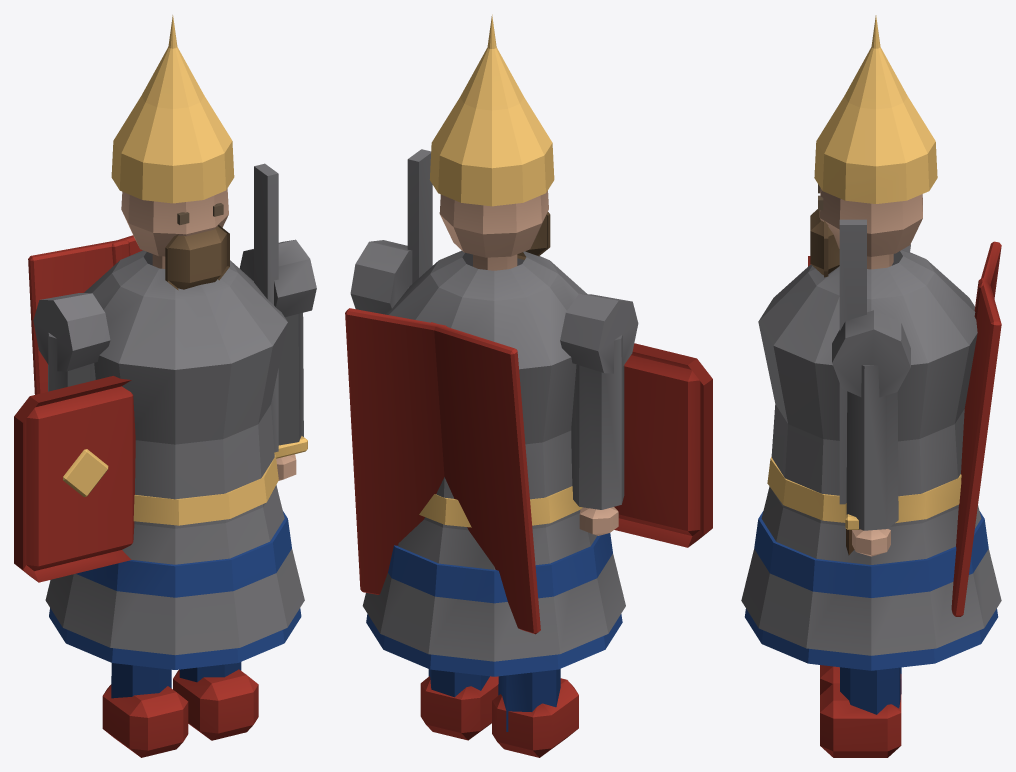
File: unit_bogatyr.glb
3 views of the same model, side by side, from view 1: azimuth 30°, elevation 25°; view 2: azimuth 150°, elevation 25°; view 3: azimuth 270°, elevation 25° (orthographic).
Visible parts, largest first — view 1: unit_bogatyr; view 2: unit_bogatyr; view 3: unit_bogatyr.
Boxes of the visible parts, left/top/right/bottom form: unit_bogatyr: left=14, top=15, right=316, bottom=757; unit_bogatyr: left=345, top=14, right=712, bottom=757; unit_bogatyr: left=741, top=15, right=1001, bottom=757.
Size of the model in its own units: 0.3952 by 0.875 by 0.2875.
